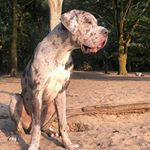puppy: (6, 7, 114, 150)
